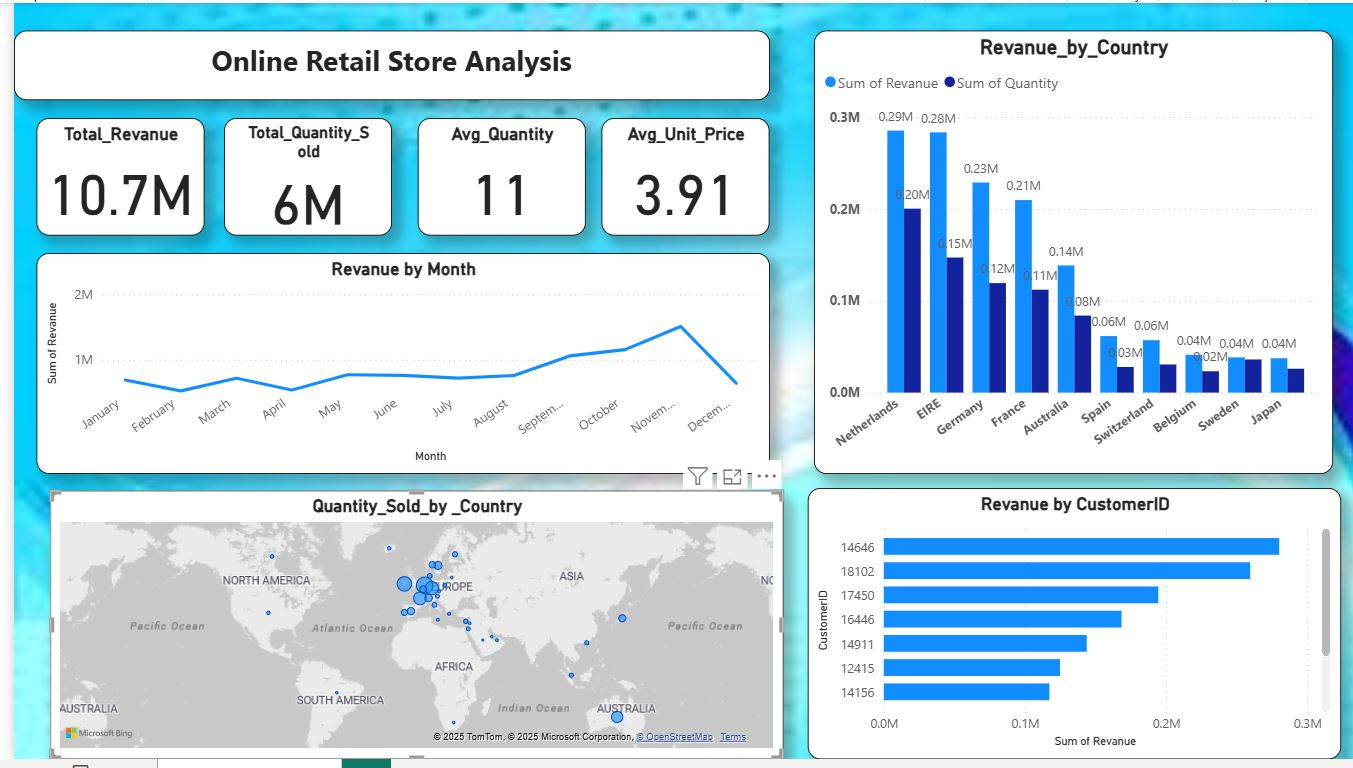

What the dashboard file says about the page in this screenshot:
{"tool":"powerbi","page":{"name":"Online Retails Store","canvas":[1280,720],"ordinal":0},"visuals":[{"type":"lineChart","title":"Revanue by Month","fields":{"Category":["Online Retail.InvoiceDate.Variation.Date Hierarchy.Month","Online Retail.InvoiceDate.Variation.Date Hierarchy.Year"],"Y":["Sum(Online Retail.Revanue)"]},"box":[22,238,698,210],"z":0},{"type":"textbox","box":[0,26,720,66],"z":1000},{"type":"card","title":"Total_Revanue","fields":{"Values":["Sum(Online Retail.Revanue)"]},"box":[22,110,160,112],"z":2000},{"type":"card","title":"Total_Quantity_Sold","fields":{"Values":["Sum(Online Retail.Quantity)"]},"box":[200,110,160,112],"z":3000},{"type":"card","title":"Avg_Unit_Price","fields":{"Values":["Avg(Online Retail.UnitPrice)"]},"box":[560,110,160,112],"z":4000},{"type":"card","title":"Avg_Quantity","fields":{"Values":["Avg(Online Retail.Quantity)"]},"box":[384,110,160,112],"z":5000},{"type":"clusteredColumnChart","title":"Revanue_by_Country","fields":{"Category":["Online Retail.Country"],"Y":["Sum(Online Retail.Revanue)","Sum(Online Retail.Quantity)"]},"box":[762,26,494,422],"z":6000},{"type":"barChart","title":"Revanue by CustomerID","fields":{"Category":["Online Retail.CustomerID"],"Y":["Sum(Online Retail.Revanue)"]},"box":[756,462,508,258],"z":7000},{"type":"map","title":"Quantity_Sold_by _Country","fields":{"Category":["Online Retail.Country"],"Size":["Sum(Online Retail.Quantity)"]},"box":[34,464,698,256],"z":8000}]}

Visuals, with their boxes in screenshot pixels (x1, y1, x2, y2), scaled from the page's 1280x720 canvas onto the 1353x768 screenshot:
"Revanue by Month" lineChart: Rect(23, 254, 761, 478)
textbox: Rect(0, 28, 761, 98)
"Total_Revanue" card: Rect(23, 117, 192, 237)
"Total_Quantity_Sold" card: Rect(211, 117, 381, 237)
"Avg_Unit_Price" card: Rect(592, 117, 761, 237)
"Avg_Quantity" card: Rect(406, 117, 575, 237)
"Revanue_by_Country" clusteredColumnChart: Rect(805, 28, 1328, 478)
"Revanue by CustomerID" barChart: Rect(799, 493, 1336, 767)
"Quantity_Sold_by _Country" map: Rect(36, 495, 774, 767)
